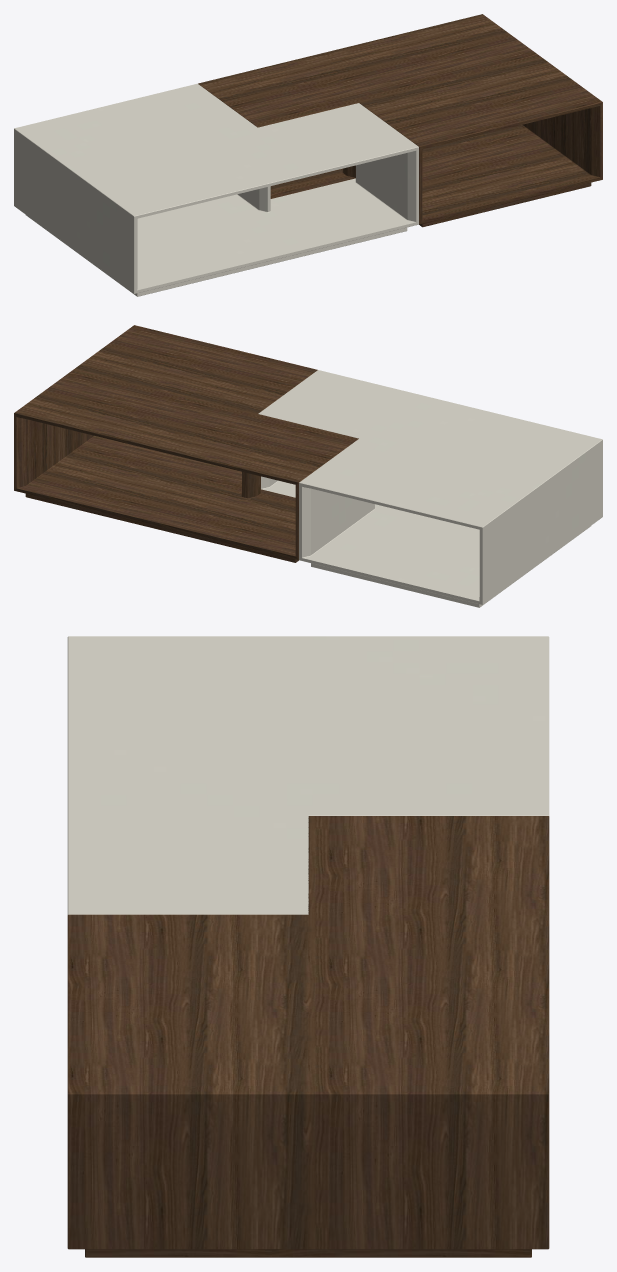
File: coffee_table_saloon.dae
The picture shows the model from 3 angles, top to bottom: view 1: azimuth 30°, elevation 25°; view 2: azimuth 150°, elevation 25°; view 3: azimuth 270°, elevation 25°; orthographic projection. The views are drawn at different scales.
Visible parts, largest first — view 1: MEJ10011_Component_03, MEJ10011_Component_02, MEJ10011_Component_04, MEJ10011_Component_05; view 2: MEJ10011_Component_03, MEJ10011_Component_02, MEJ10011_Component_05, MEJ10011_Component_04; view 3: MEJ10011_Component_02, MEJ10011_Component_03, MEJ10011_Component_05.
Boxes of the visible parts, x1,y1,x2,y2 form: MEJ10011_Component_03: (14, 83, 418, 293); MEJ10011_Component_02: (198, 14, 602, 224); MEJ10011_Component_04: (26, 215, 407, 296); MEJ10011_Component_05: (419, 182, 591, 227); MEJ10011_Component_03: (258, 370, 602, 604); MEJ10011_Component_02: (14, 325, 358, 559); MEJ10011_Component_05: (25, 493, 298, 562); MEJ10011_Component_04: (311, 526, 590, 607); MEJ10011_Component_02: (67, 816, 549, 1249); MEJ10011_Component_03: (67, 636, 549, 914); MEJ10011_Component_05: (85, 1249, 531, 1257).
Bounding box in the file's own units: 63 × 28 × 11.
2 materials, 2 textured.
